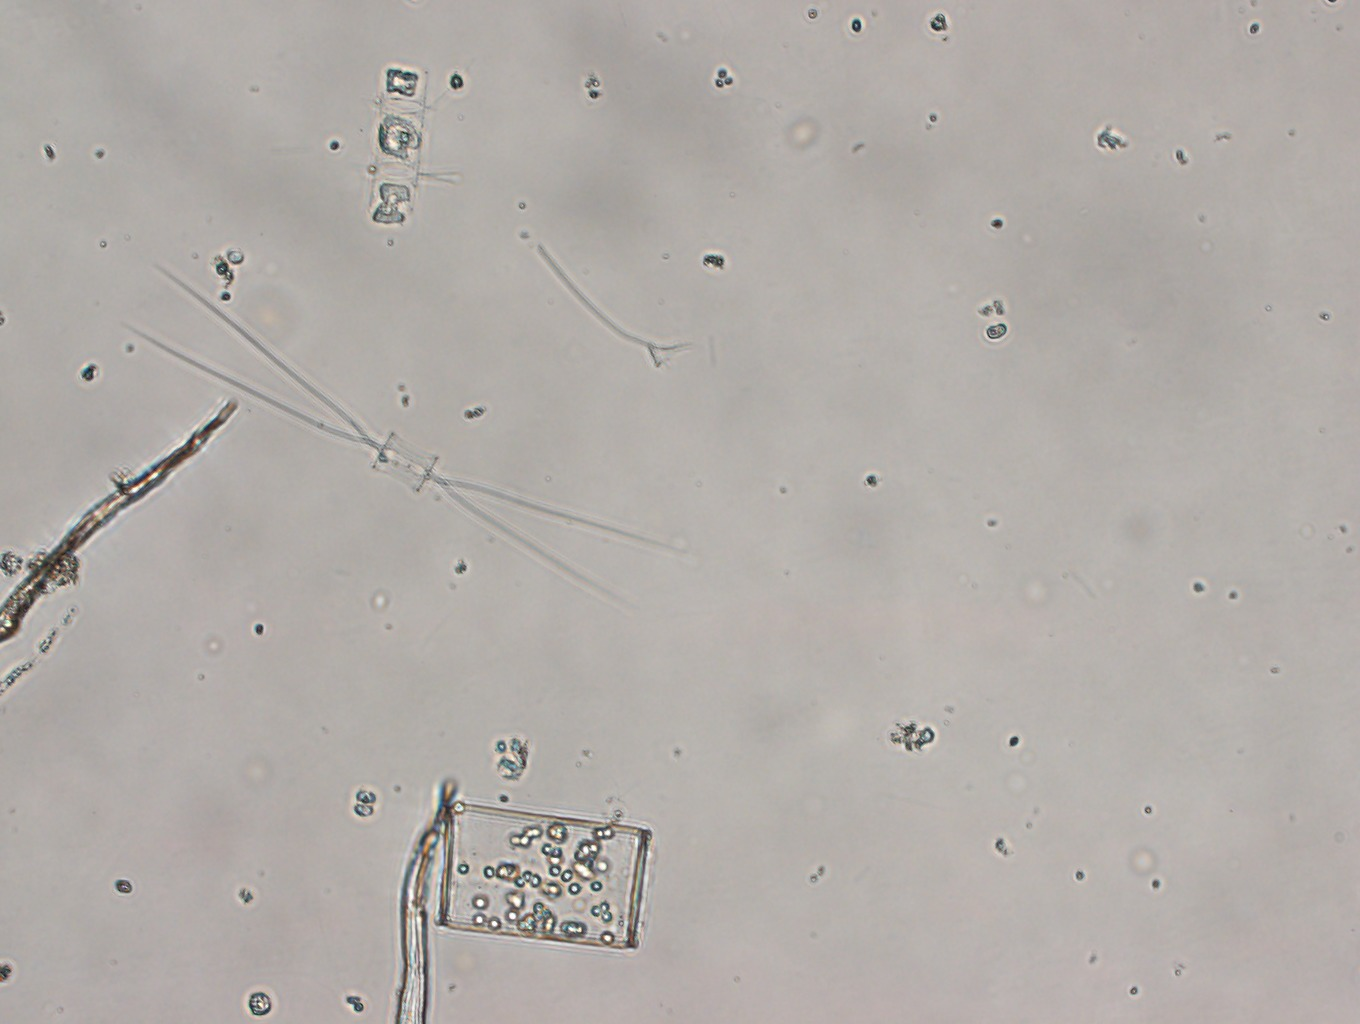chaetoceros: (121, 262, 688, 608), (369, 63, 468, 232)
guinardia flaccida: (436, 803, 656, 953)
